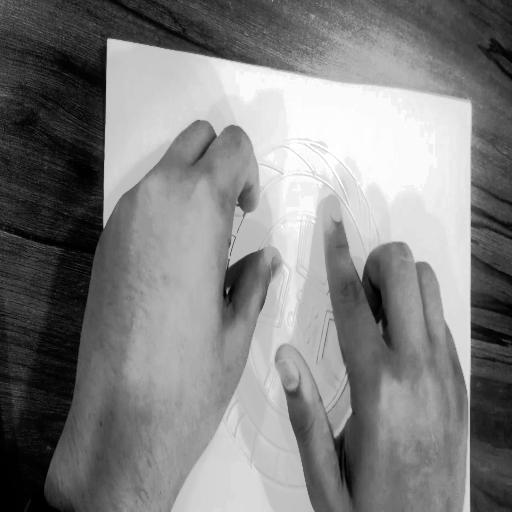tire: (199, 111, 394, 505)
top_left: (103, 35, 111, 47)
top_right: (465, 93, 476, 113)
